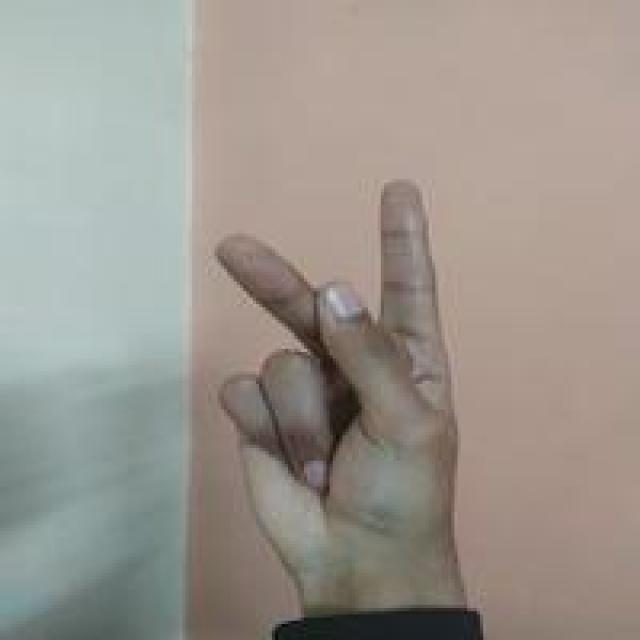K: (207, 175, 462, 578)
